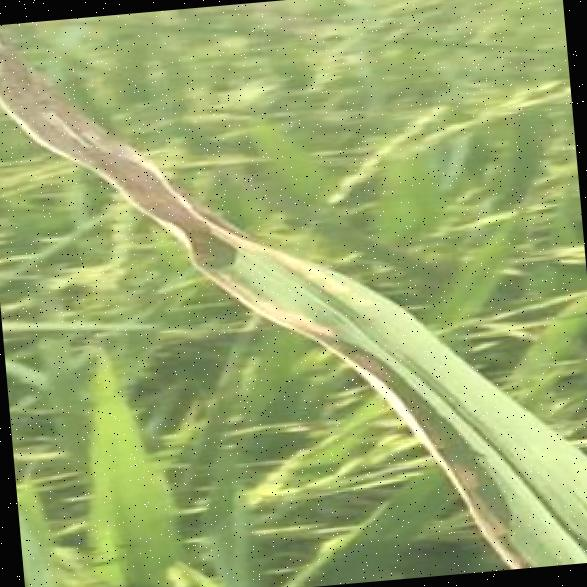Bacteria_Leaf_Blight: (187, 188, 388, 394)
